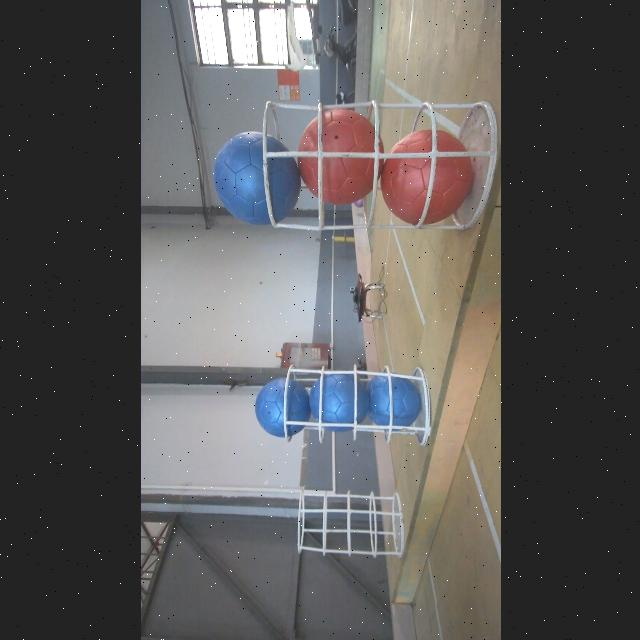B: (213, 132, 299, 225), (310, 371, 368, 434), (363, 371, 422, 431), (254, 378, 310, 438)
R: (380, 128, 472, 225), (297, 110, 378, 216)
